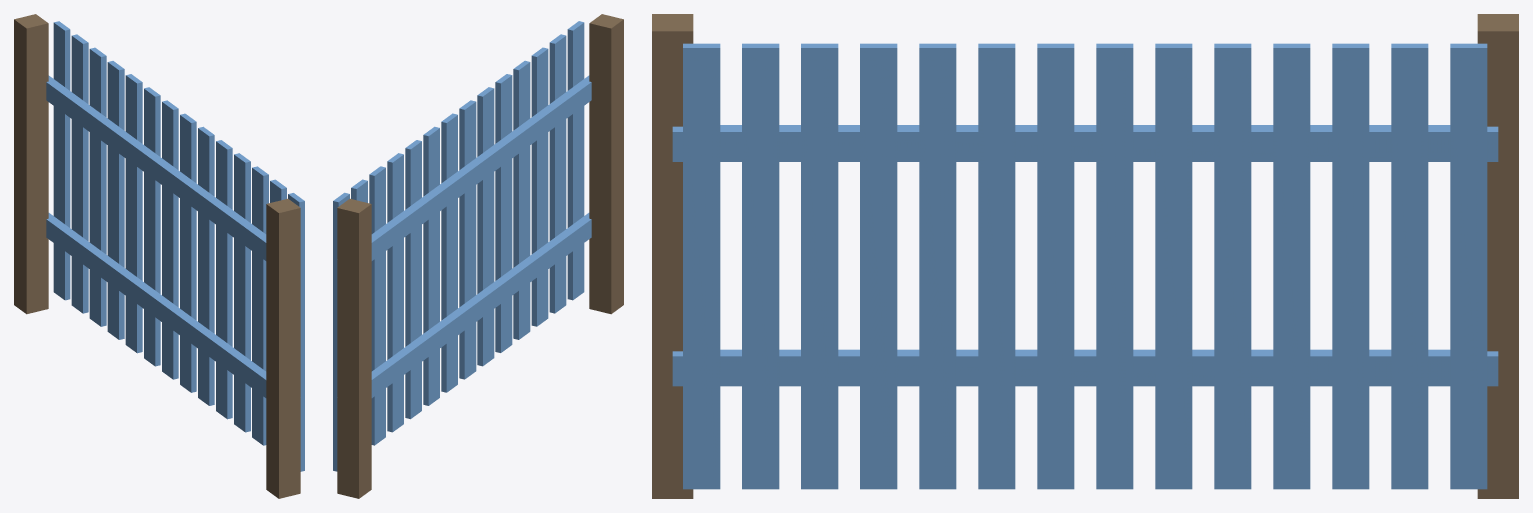
File: Plot_Sztachety_Niebieski.fbx
The picture shows the model from 3 angles, left to right: view 1: azimuth 30°, elevation 25°; view 2: azimuth 150°, elevation 25°; view 3: azimuth 270°, elevation 25°; orthographic projection. The views are drawn at different scales.
Visible parts, largest first — view 1: Plot_Sztachety_Niebieski; view 2: Plot_Sztachety_Niebieski; view 3: Plot_Sztachety_Niebieski.
Boxes of the visible parts, x1,y1,x2,y2 form: Plot_Sztachety_Niebieski: (14, 14, 304, 498); Plot_Sztachety_Niebieski: (333, 14, 623, 498); Plot_Sztachety_Niebieski: (652, 14, 1518, 498).
Bounding box in the file's own units: 0.1625 × 1.25 × 2.1.
